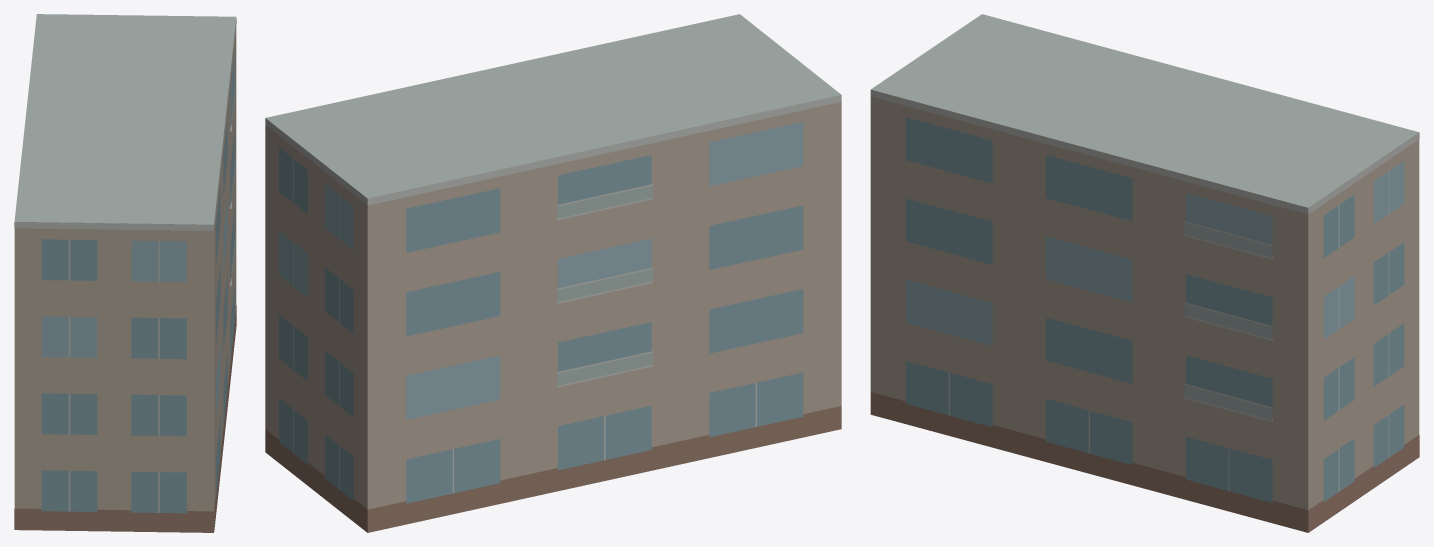
Rendered from survey-upis-32947977.glb.
3 views of the same model, side by side, from view 1: azimuth 30°, elevation 25°; view 2: azimuth 150°, elevation 25°; view 3: azimuth 270°, elevation 25° (orthographic). The views are drawn at different scales.
Parts seen in each view (by area): view 1: survey-upis-32947977.tmp; view 2: survey-upis-32947977.tmp; view 3: survey-upis-32947977.tmp.
Part boxes in pixels (bbox=[...]): survey-upis-32947977.tmp: bbox=[14, 14, 236, 532]; survey-upis-32947977.tmp: bbox=[265, 14, 841, 532]; survey-upis-32947977.tmp: bbox=[870, 14, 1419, 532].
Size of the model in its own units: 14.97 by 11.7 by 17.91.
